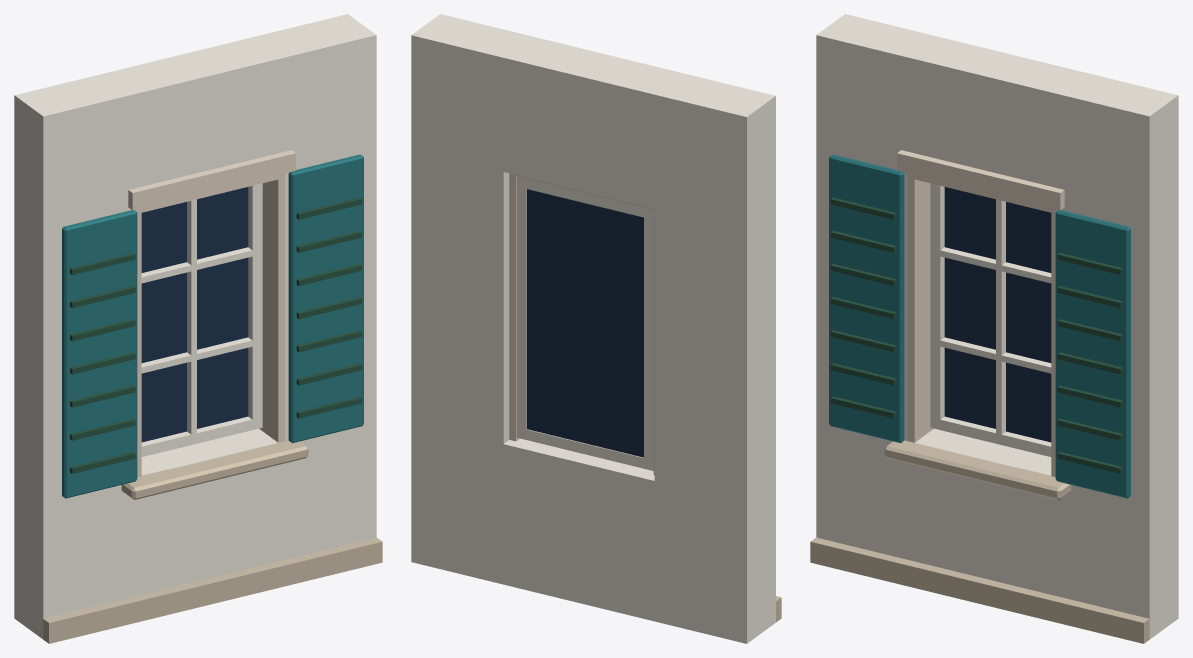
Rendered from window_shutters.glb.
The picture shows the model from 3 angles, left to right: view 1: azimuth 30°, elevation 25°; view 2: azimuth 150°, elevation 25°; view 3: azimuth 330°, elevation 25°; orthographic projection.
Parts seen in each view (by area): view 1: window_shutters; view 2: window_shutters; view 3: window_shutters.
Boxes of the visible parts, <box> form: window_shutters: <box>14,14,382,643</box>; window_shutters: <box>411,14,781,643</box>; window_shutters: <box>810,14,1178,643</box>.
Bounding box in the file's own units: 2 × 3 × 0.42.
3 materials, 3 textured.
